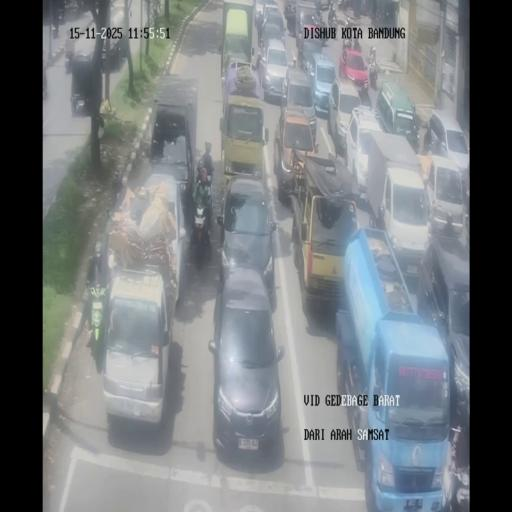3: (338, 232, 449, 508), (291, 154, 359, 314), (144, 78, 199, 218), (362, 133, 426, 251), (220, 0, 256, 72), (63, 28, 76, 72)
car: (209, 269, 284, 462), (100, 266, 173, 430), (216, 176, 277, 299), (273, 106, 318, 202), (424, 110, 469, 187), (376, 78, 420, 152), (329, 78, 364, 153), (70, 50, 102, 119), (259, 38, 290, 102), (305, 52, 336, 116), (102, 9, 130, 66), (295, 7, 326, 58), (339, 46, 369, 90), (258, 3, 286, 47), (284, 1, 297, 34)
truck: (441, 444, 469, 512), (190, 190, 212, 269), (196, 163, 214, 201), (422, 121, 433, 153), (369, 65, 378, 90), (328, 6, 336, 28), (57, 3, 65, 24), (343, 36, 352, 54), (352, 37, 362, 53), (316, 7, 324, 22)
